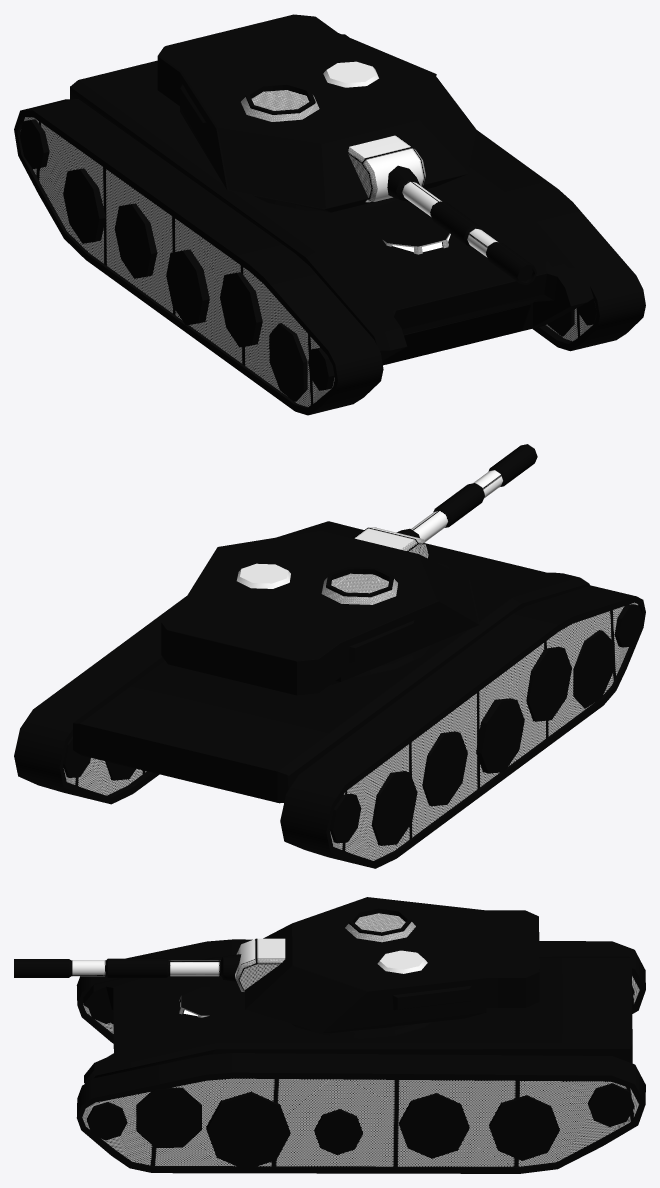
Rendered from Tank.glb.
The picture shows the model from 3 angles, top to bottom: view 1: azimuth 30°, elevation 25°; view 2: azimuth 150°, elevation 25°; view 3: azimuth 270°, elevation 25°; orthographic projection. The views are drawn at different scales.
Parts seen in each view (by area): view 1: Tank; view 2: Tank; view 3: Tank.
Part boxes in pixels (x1,y1,x2,y2): Tank: (14, 14, 645, 415); Tank: (14, 444, 645, 868); Tank: (14, 897, 645, 1173).
Size of the model in its own units: 12.1 by 6.92 by 23.39.
Materials: 4 (2 with a texture image).
